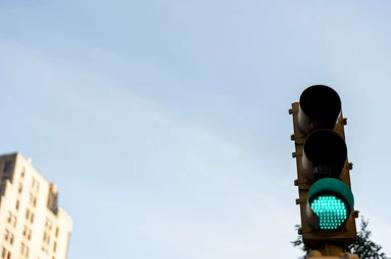green_light: (289, 85, 359, 243)
